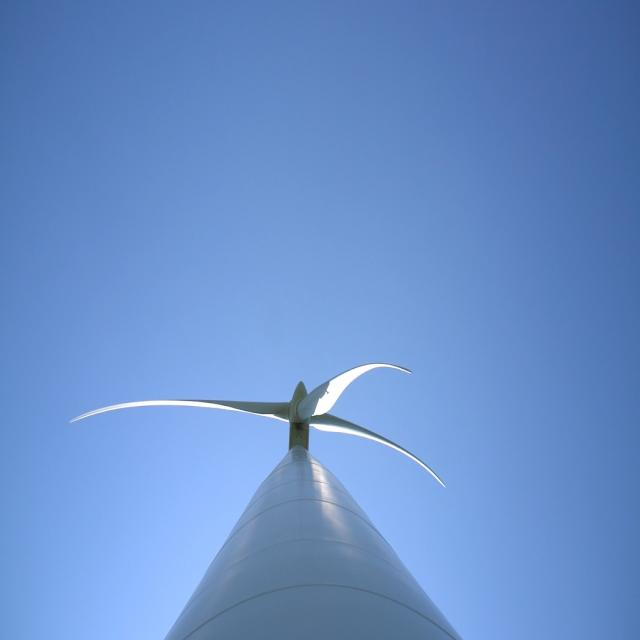blade 1: (378, 415, 454, 500)
blade 2: (53, 358, 269, 450)
blade 3: (311, 349, 461, 405)
